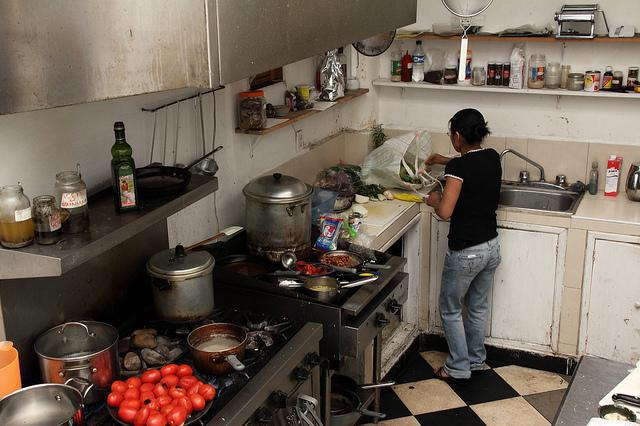Lavaplatos: (428, 135, 591, 219)
